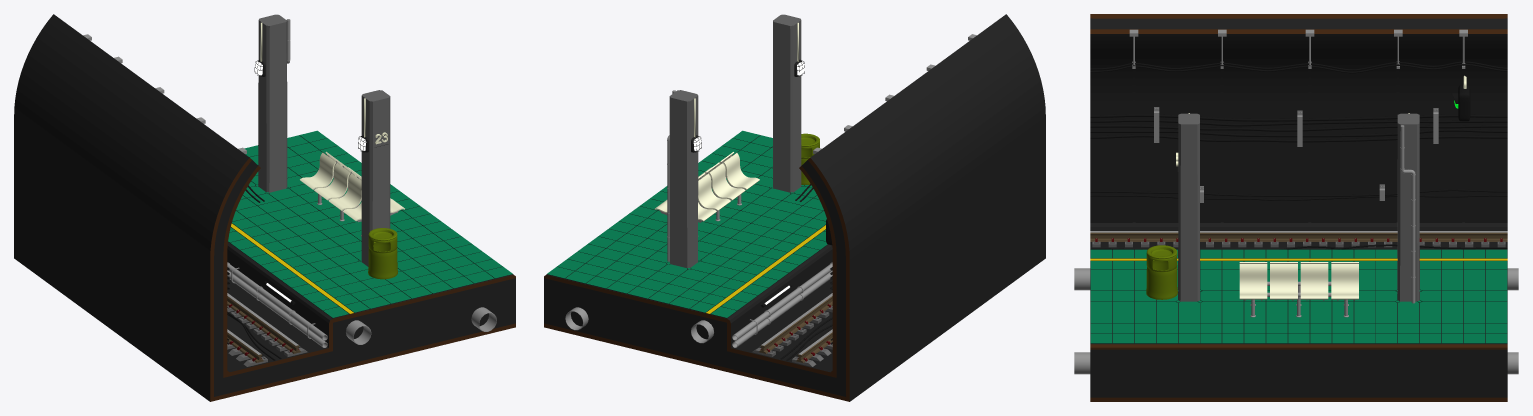
File: Subway.glb
3 views of the same model, side by side, from view 1: azimuth 30°, elevation 25°; view 2: azimuth 150°, elevation 25°; view 3: azimuth 270°, elevation 25° (orthographic). The views are drawn at different scales.
Visible parts, largest first — view 1: Structure, bench, pipe2, Bin, Rails, Rails structure; view 2: Structure, bench, pipe2, Rails, Rails structure, Bin; view 3: Structure, bench, Rails, roof wires, Bin, wall wires, Rails structure, Wall wire 5, Wall wire 2, Wall wire 3, Wall wire 4, Wall wire 1 (+6 smaller).
Boxes of the visible parts, box(x1,y1,x2,y2) form: Structure: box(14, 14, 515, 401); bench: box(300, 151, 404, 221); pipe2: box(227, 262, 327, 347); Bin: box(368, 228, 397, 279); Rails: box(227, 293, 300, 362); Rails structure: box(227, 304, 307, 366); Structure: box(544, 14, 1045, 401); bench: box(654, 152, 759, 221); pipe2: box(732, 262, 832, 347); Rails: box(759, 293, 832, 362); Rails structure: box(752, 304, 832, 366); Bin: box(801, 133, 819, 185); Structure: box(1090, 14, 1507, 401); bench: box(1239, 262, 1358, 299); Rails: box(1090, 231, 1507, 241); roof wires: box(1090, 61, 1507, 73); Bin: box(1146, 245, 1177, 299); wall wires: box(1090, 189, 1507, 200); Rails structure: box(1092, 238, 1505, 247); Wall wire 5: box(1090, 134, 1507, 142); Wall wire 2: box(1090, 119, 1507, 126); Wall wire 3: box(1090, 125, 1507, 131); Wall wire 4: box(1090, 129, 1507, 137); Wall wire 1: box(1090, 114, 1507, 121).
Bounding box in the file's own units: 9 × 6.61 × 10.65.
